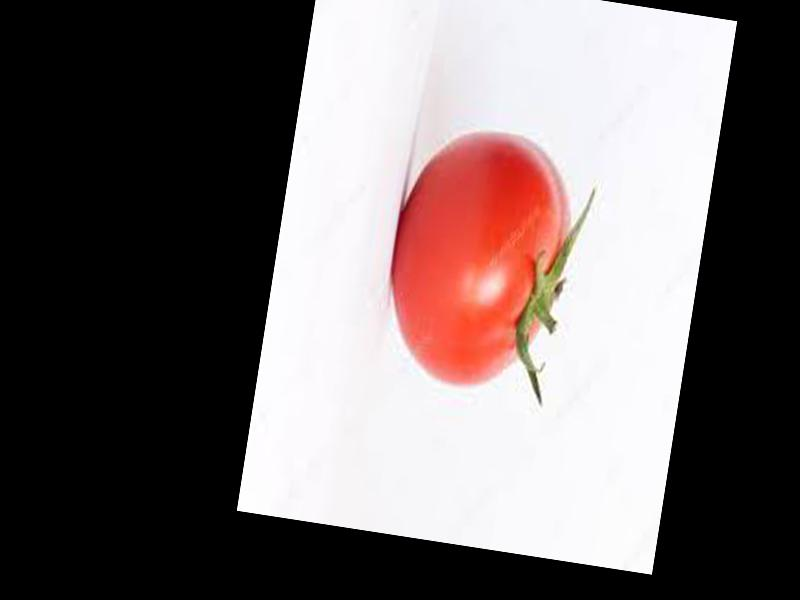Tomato: (374, 115, 581, 397)
